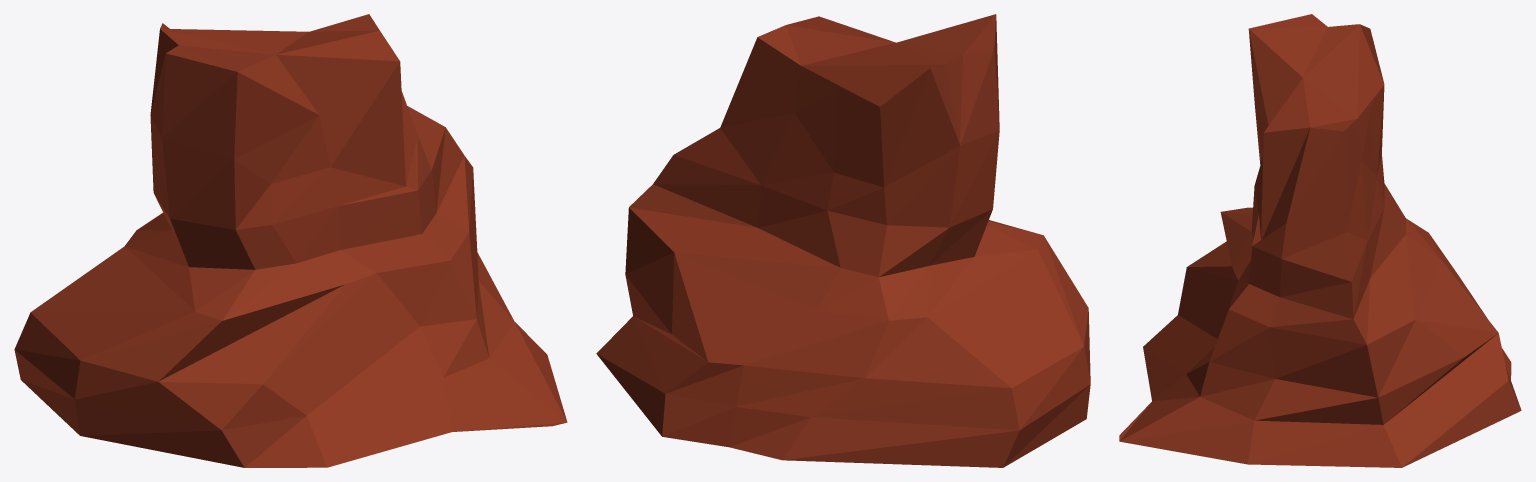
Rendered from duża góra3.FBX.
The picture shows the model from 3 angles, left to right: view 1: azimuth 30°, elevation 25°; view 2: azimuth 150°, elevation 25°; view 3: azimuth 270°, elevation 25°; orthographic projection. The views are drawn at different scales.
Parts seen in each view (by area): view 1: Line006; view 2: Line006; view 3: Line006.
Part boxes in pixels (left/top/right/bottom): Line006: left=14, top=14, right=567, bottom=467; Line006: left=596, top=14, right=1090, bottom=467; Line006: left=1119, top=14, right=1521, bottom=467.
Bounding box in the file's own units: 716 × 547 × 651.
